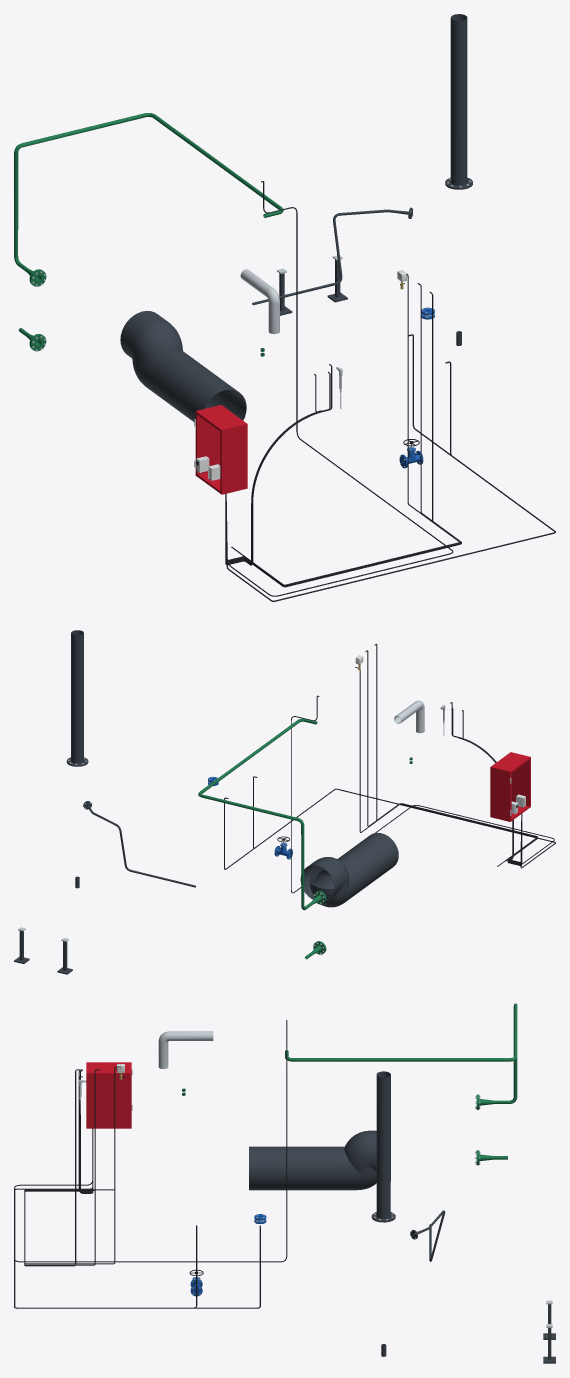
The picture shows the model from 3 angles, top to bottom: view 1: azimuth 30°, elevation 25°; view 2: azimuth 150°, elevation 25°; view 3: azimuth 270°, elevation 25°; orthographic projection. The views are drawn at different scales.
Visible parts, largest first — view 1: flue_spacer / dark, cables / black, control_cabinet / control_cabinet_0.npz, bdv_vent / dark, from_economizer / green, mod_direct_drive_cable / black, steam_rise / steel, tds_without_fv / dark; view 2: flue_spacer / dark, cables / black, control_cabinet / control_cabinet_0.npz, bdv_vent / dark, from_economizer / green, mod_direct_drive_cable / black, steam_rise / steel, tds_without_fv / dark, trap_support / dark; view 3: flue_spacer / dark, cables / black, control_cabinet / control_cabinet_0.npz, bdv_vent / dark, from_economizer / green, mod_direct_drive_cable / black, steam_rise / steel.
Boxes of the visible parts, x1=… form: flue_spacer / dark: x1=120, y1=311, x2=246, y2=421; cables / black: x1=225, y1=274, x2=555, y2=601; control_cabinet / control_cabinet_0.npz: x1=194, y1=405, x2=247, y2=494; bdv_vent / dark: x1=445, y1=14, x2=472, y2=189; from_economizer / green: x1=14, y1=113, x2=283, y2=271; mod_direct_drive_cable / black: x1=227, y1=181, x2=453, y2=596; steam_rise / steel: x1=240, y1=269, x2=279, y2=334; tds_without_fv / dark: x1=252, y1=207, x2=412, y2=305; flue_spacer / dark: x1=300, y1=832, x2=398, y2=907; cables / black: x1=224, y1=643, x2=555, y2=869; control_cabinet / control_cabinet_0.npz: x1=490, y1=752, x2=530, y2=821; bdv_vent / dark: x1=66, y1=630, x2=88, y2=766; from_economizer / green: x1=198, y1=718, x2=317, y2=910; mod_direct_drive_cable / black: x1=291, y1=695, x2=554, y2=893; steam_rise / steel: x1=394, y1=700, x2=424, y2=733; tds_without_fv / dark: x1=83, y1=801, x2=195, y2=887; trap_support / dark: x1=14, y1=931, x2=72, y2=974; flue_spacer / dark: x1=249, y1=1130, x2=376, y2=1190; cables / black: x1=14, y1=1066, x2=260, y2=1308; control_cabinet / control_cabinet_0.npz: x1=86, y1=1062, x2=132, y2=1128; bdv_vent / dark: x1=371, y1=1071, x2=395, y2=1222; from_economizer / green: x1=285, y1=1003, x2=517, y2=1103; mod_direct_drive_cable / black: x1=14, y1=1019, x2=287, y2=1262; steam_rise / steel: x1=158, y1=1031, x2=213, y2=1068.
Bounding box in the file's own units: 4.97 × 3.85 × 6.37.
